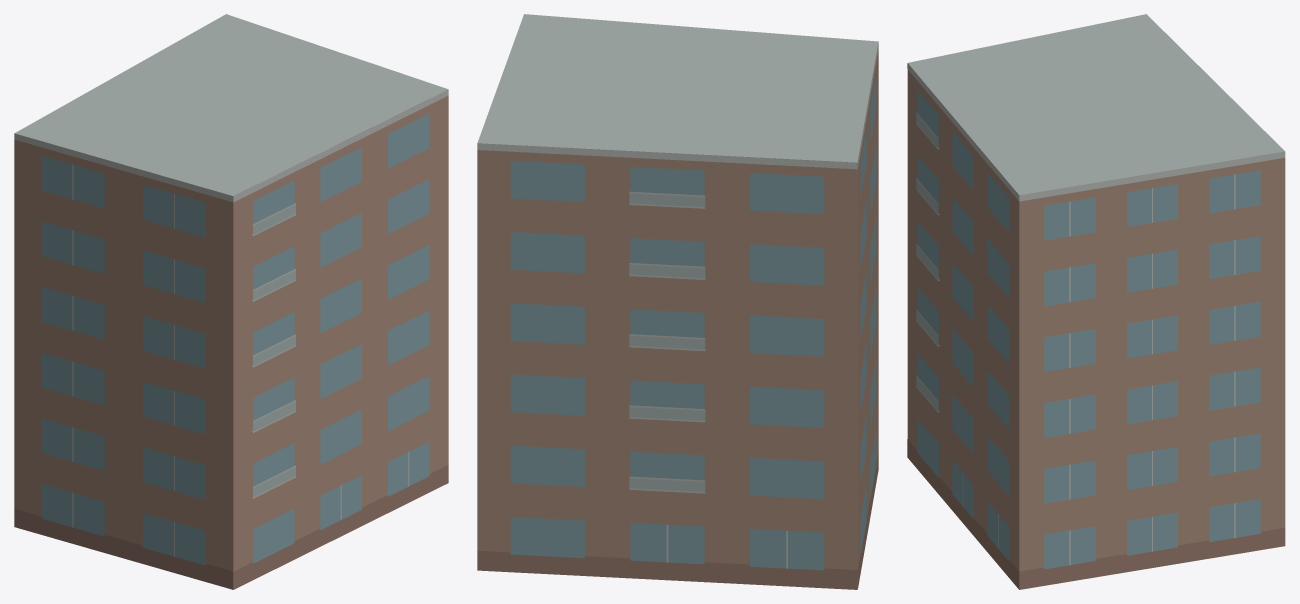
Rendered from survey-upis-33035268.glb.
3 renders of one model, left to right at view 1: azimuth 30°, elevation 25°; view 2: azimuth 150°, elevation 25°; view 3: azimuth 270°, elevation 25°, orthographic. The views are drawn at different scales.
Visible parts, largest first — view 1: survey-upis-33035268.tmp; view 2: survey-upis-33035268.tmp; view 3: survey-upis-33035268.tmp.
Boxes of the visible parts, x1,y1,x2,y2 form: survey-upis-33035268.tmp: (14, 14, 448, 589); survey-upis-33035268.tmp: (477, 14, 878, 589); survey-upis-33035268.tmp: (907, 14, 1285, 589).
Bounding box in the file's own units: 15.27 × 15.48 × 13.45.
